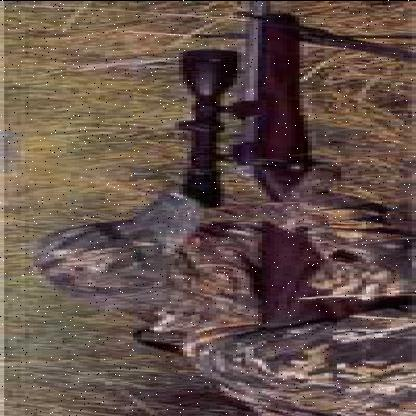rifle: (125, 2, 412, 335)
